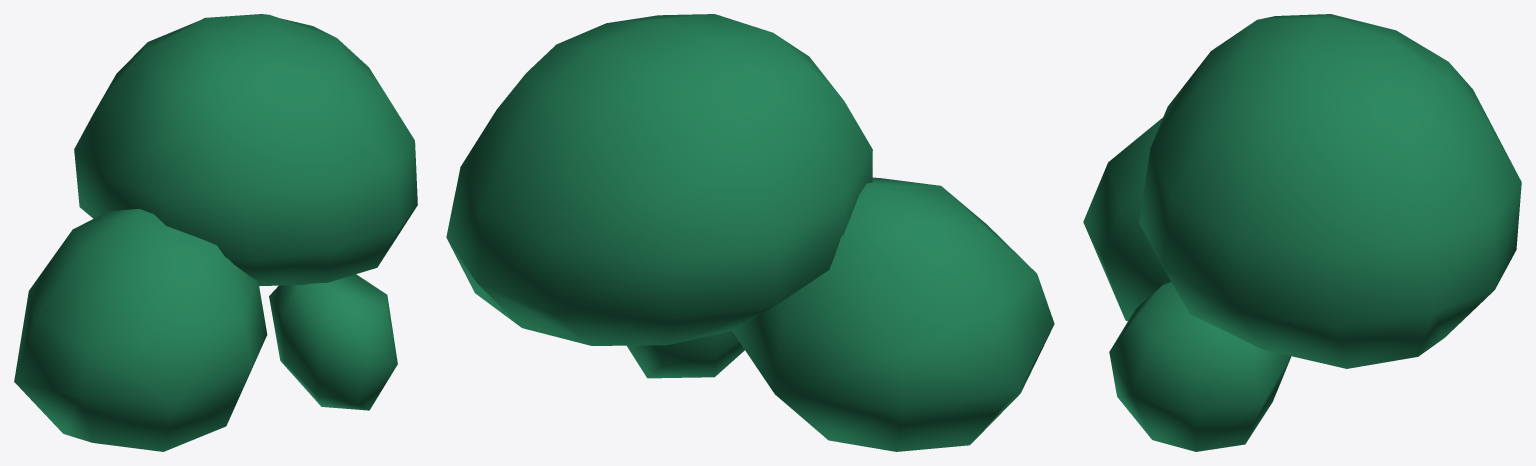
File: Tree_Top_A_03_LOD2.gltf
3 views of the same model, side by side, from view 1: azimuth 30°, elevation 25°; view 2: azimuth 150°, elevation 25°; view 3: azimuth 270°, elevation 25° (orthographic). The views are drawn at different scales.
Visible parts, largest first — view 1: Tree_Top_A_03_LOD2_Cylinder.737; view 2: Tree_Top_A_03_LOD2_Cylinder.737; view 3: Tree_Top_A_03_LOD2_Cylinder.737.
Boxes of the visible parts, bbox=[...] form: Tree_Top_A_03_LOD2_Cylinder.737: bbox=[14, 14, 417, 451]; Tree_Top_A_03_LOD2_Cylinder.737: bbox=[446, 14, 1054, 451]; Tree_Top_A_03_LOD2_Cylinder.737: bbox=[1083, 14, 1521, 451].
Size of the model in its own units: 10.04 by 7.81 by 8.12.
1 material, 1 textured.
